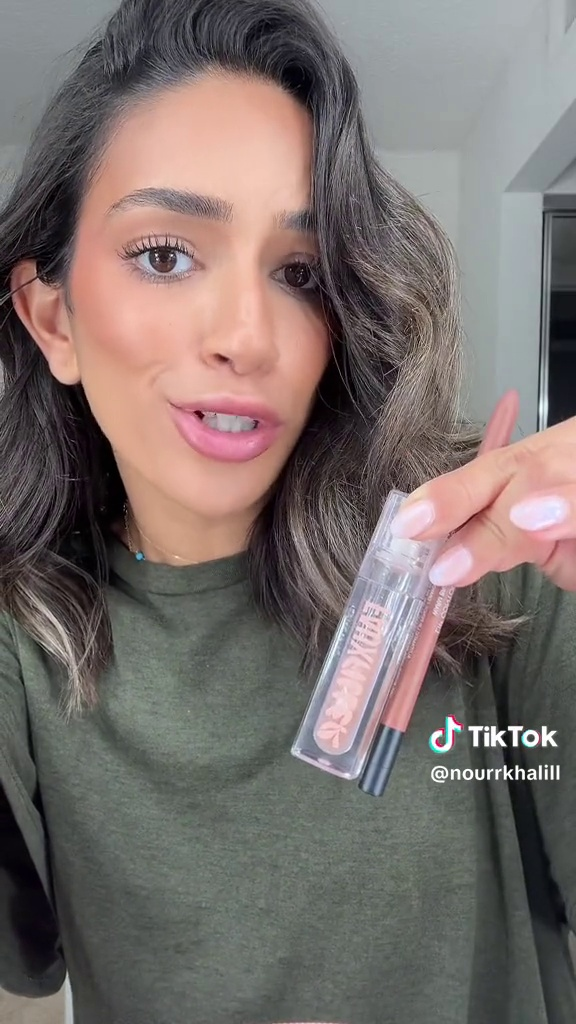train' :'yolo_data/train/images',: (282, 382, 533, 802)
